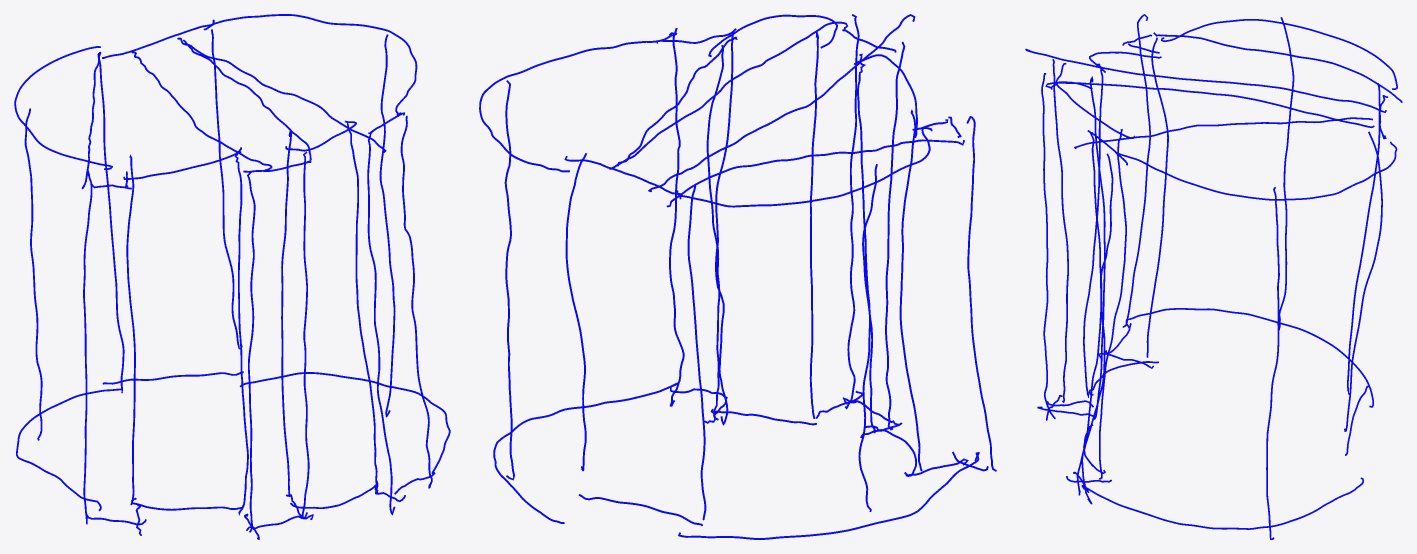
File: scaffold_sketch_P4_open.glb
3 views of the same model, side by side, from view 1: azimuth 30°, elevation 25°; view 2: azimuth 150°, elevation 25°; view 3: azimuth 270°, elevation 25° (orthographic). The views are drawn at different scales.
Visible parts, largest first — view 1: scaffold_sketch_P4_open; view 2: scaffold_sketch_P4_open; view 3: scaffold_sketch_P4_open.
Part boxes in pixels (<box>): scaffold_sketch_P4_open: <box>14,14,450,539</box>; scaffold_sketch_P4_open: <box>479,14,996,539</box>; scaffold_sketch_P4_open: <box>1025,14,1402,539</box>.
Bounding box in the file's own units: 1 × 0.9629 × 0.8691.
